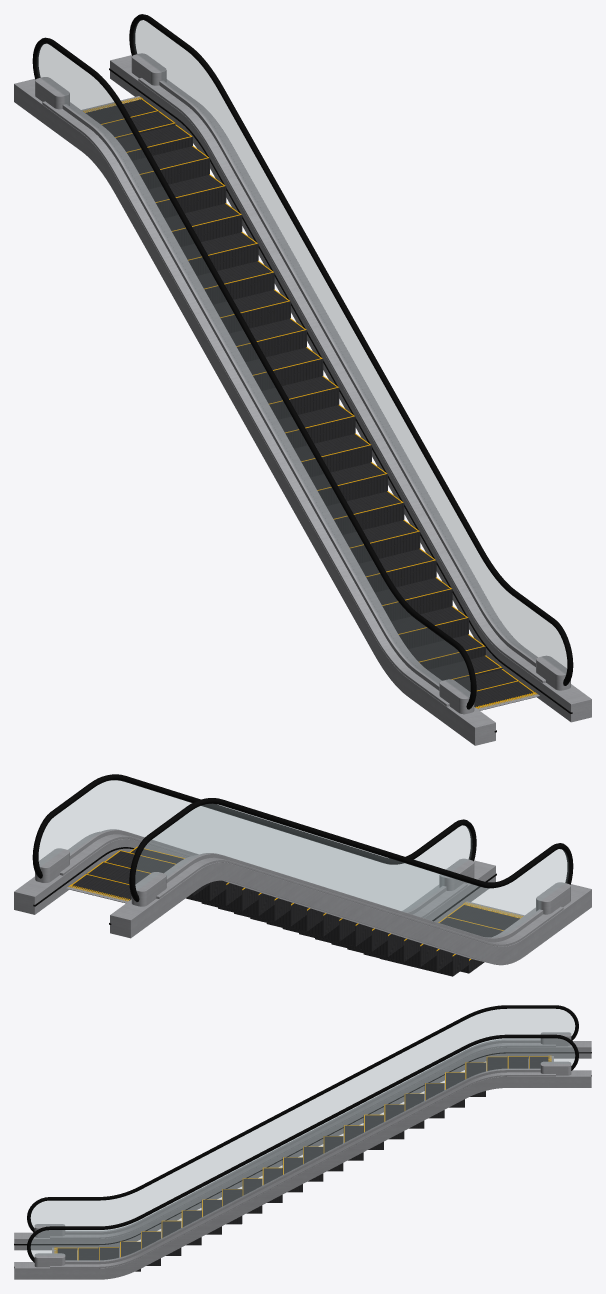
File: gteki_escalator_dress_s1000_r4000_glass_treads.glb
The picture shows the model from 3 angles, top to bottom: view 1: azimuth 30°, elevation 25°; view 2: azimuth 150°, elevation 25°; view 3: azimuth 270°, elevation 25°; orthographic projection. The views are drawn at different scales.
Visible parts, largest first — view 1: VIS_steps, VIS_balustrades, VIS_deck_boards, VIS_skirts, VIS_moving_handrails, VIS_balustrade_shoes, VIS_newel_bases, VIS_demarcation, VIS_skirt_brushes; view 2: VIS_balustrades, VIS_skirts, VIS_steps, VIS_moving_handrails, VIS_deck_boards, VIS_newel_bases, VIS_balustrade_shoes, VIS_demarcation, VIS_comb_plates, VIS_skirt_brushes; view 3: VIS_balustrades, VIS_skirts, VIS_steps, VIS_moving_handrails, VIS_deck_boards, VIS_balustrade_shoes, VIS_newel_bases, VIS_demarcation, VIS_skirt_brushes.
Part boxes in pixels (x1,y1,x2,y2): VIS_steps: (85, 99, 535, 710); VIS_balustrades: (37, 20, 566, 697); VIS_deck_boards: (42, 78, 545, 706); VIS_skirts: (14, 55, 591, 745); VIS_moving_handrails: (32, 14, 573, 709); VIS_balustrade_shoes: (62, 80, 535, 690); VIS_newel_bases: (35, 53, 570, 714); VIS_demarcation: (101, 99, 534, 707); VIS_skirt_brushes: (109, 68, 572, 732); VIS_balustrades: (39, 780, 568, 937); VIS_skirts: (14, 839, 591, 965); VIS_steps: (69, 847, 519, 976); VIS_moving_handrails: (32, 774, 573, 901); VIS_deck_boards: (60, 831, 563, 946); VIS_newel_bases: (35, 848, 570, 914); VIS_balustrade_shoes: (70, 829, 543, 942); VIS_demarcation: (71, 846, 520, 960); VIS_comb_plates: (66, 885, 524, 917); VIS_skirt_brushes: (33, 847, 496, 924); VIS_balustrades: (31, 1009, 574, 1260); VIS_skirts: (14, 1041, 591, 1279); VIS_steps: (57, 1056, 548, 1271); VIS_moving_handrails: (27, 1005, 578, 1262); VIS_deck_boards: (50, 1043, 555, 1268); VIS_balustrade_shoes: (65, 1039, 540, 1264); VIS_newel_bases: (34, 1032, 571, 1267); VIS_demarcation: (58, 1056, 548, 1259); VIS_skirt_brushes: (14, 1052, 591, 1267).
Size of the model in its own units: 1.6 by 5.05 by 10.93.
Materials: 5 (2 with a texture image).
